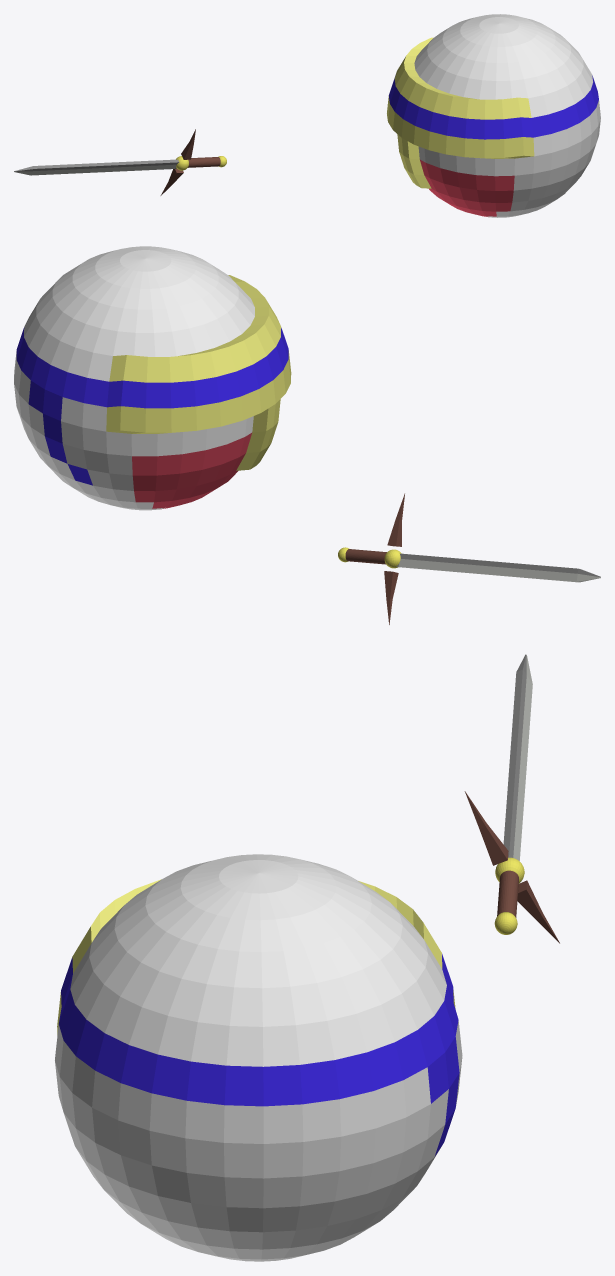
Rendered from MONSTER-01-blue.fbx.
The picture shows the model from 3 angles, top to bottom: view 1: azimuth 30°, elevation 25°; view 2: azimuth 150°, elevation 25°; view 3: azimuth 270°, elevation 25°; orthographic projection. The views are drawn at different scales.
Visible parts, largest first — view 1: Sphere, Cube; view 2: Sphere, Cube; view 3: Sphere, Cube.
Part boxes in pixels (<box>): Sphere: <box>387,14,600,217</box>; Cube: <box>14,129,226,195</box>; Sphere: <box>14,246,291,510</box>; Cube: <box>338,493,600,624</box>; Sphere: <box>55,854,462,1261</box>; Cube: <box>464,654,559,943</box>.
Size of the model in its own units: 12163 by 4242 by 5257.
